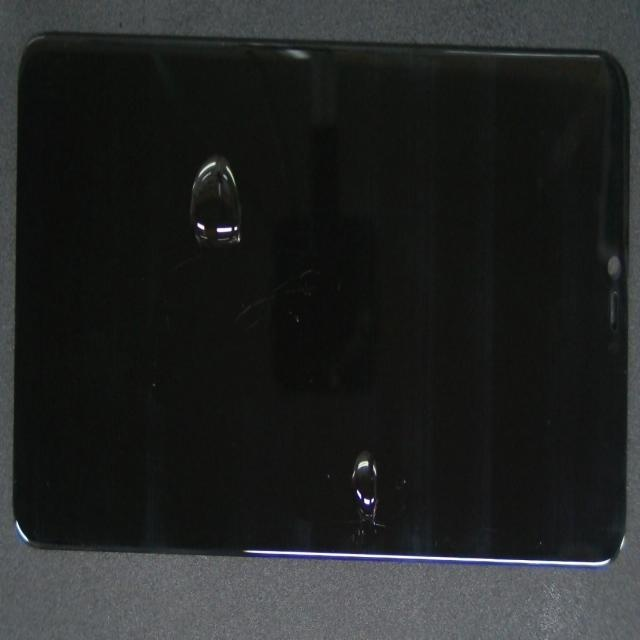oil: (183, 199, 533, 640), (138, 127, 359, 283)
